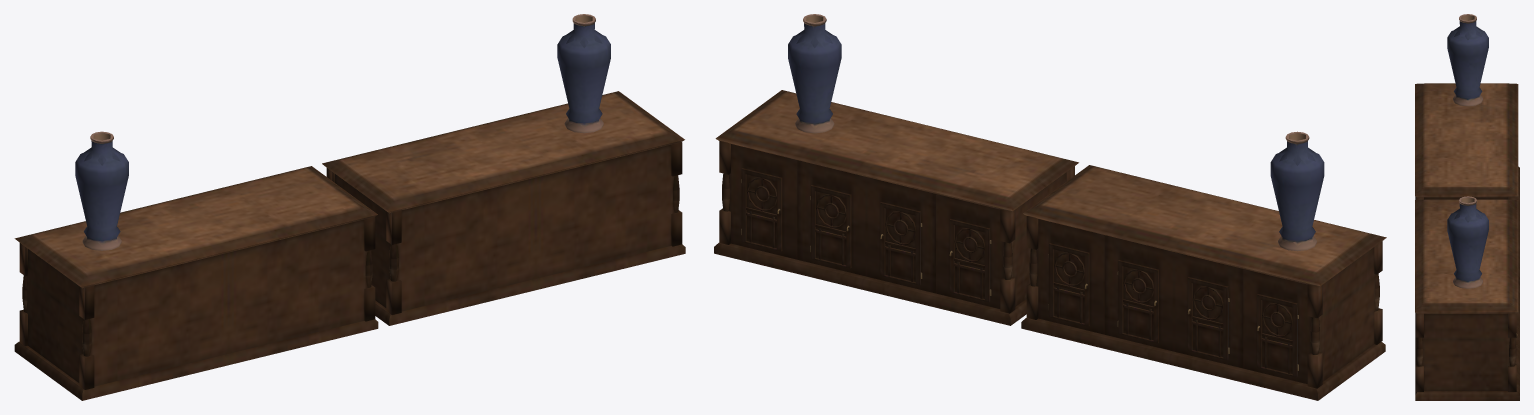
Rendered from Table01.fbx.
3 views of the same model, side by side, from view 1: azimuth 30°, elevation 25°; view 2: azimuth 150°, elevation 25°; view 3: azimuth 270°, elevation 25° (orthographic). The views are drawn at different scales.
Parts seen in each view (by area): view 1: Table01; view 2: Table01; view 3: Table01.
Boxes of the visible parts, x1,y1,x2,y2 form: Table01: (14, 14, 685, 400); Table01: (714, 14, 1386, 400); Table01: (1415, 14, 1519, 400).
Size of the model in its own units: 541 by 194 by 105.
1 material, 1 textured.
